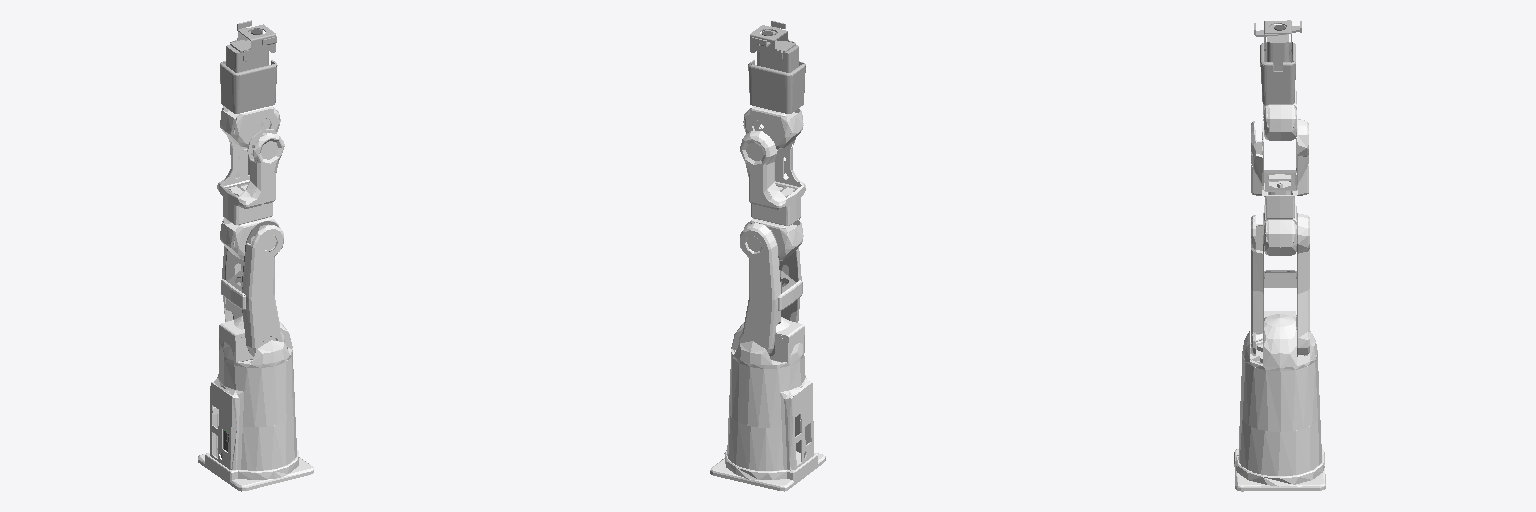
The robot description file, URDF, robot "ve026a":
<?xml version="1.0" encoding="UTF-8"?>
<robot name="ve026a">
	<gazebo>
		<plugin name="gazebo_ros_control" filename="libgazebo_ros_control.so">
			<robotNamespace>/ve026a</robotNamespace>
		</plugin>
	</gazebo>
	<link name="world"/>
	<joint name="joint_w" type="fixed">
		<parent link="world"/>
		<child link="base_link"/>
	</joint>
	<link name="base_link">
		<visual>
			<origin rpy="0 0 0" xyz="0 0 0"/>
			<geometry>
				<mesh filename="package://ve026a_description/meshes/base_link.dae" scale="1 1 1"/>
			</geometry>
		</visual>
		<collision>
			<origin rpy="0 0 0" xyz="0 0 0"/>
			<geometry>
				<mesh filename="package://ve026a_description/meshes/base_link.dae" scale="1 1 1"/>
			</geometry>
		</collision>
		<inertial>
			<mass value="1"/>
			<origin rpy="0.000000 0.000000 0.000000" xyz="0.000000 0.000000 0.000000"/>
			<inertia ixx="1" ixy="0" ixz="0" iyy="1" iyz="0" izz="1"/>
		</inertial>
	</link>
	<link name="J1">
		<visual>
			<origin rpy="0 0 0" xyz="0 0 0"/>
			<geometry>
				<mesh filename="package://ve026a_description/meshes/J1.dae" scale="1 1 1"/>
			</geometry>
		</visual>
		<collision>
			<origin rpy="0 0 0" xyz="0 0 0"/>
			<geometry>
				<mesh filename="package://ve026a_description/meshes/J1.dae" scale="1 1 1"/>
			</geometry>
		</collision>
		<inertial>
			<mass value="1"/>
			<origin rpy="0.000000 0.000000 0.000000" xyz="0.000000 0.000000 0.000000"/>
			<inertia ixx="1" ixy="0" ixz="0" iyy="1" iyz="0" izz="1"/>
		</inertial>
	</link>
	<joint name="joint_1" type="revolute">
		<parent link="base_link"/>
		<child link="J1"/>
		<origin rpy="0.000000 0.000000 0.000000" xyz="0.000000 0.000000 0.000000"/>
		<axis xyz="-0.000000 -0.000000 1.000000"/>
		<limit effort="1" lower="-1.396263" upper="1.832596" velocity="1"/>
		<dynamics damping="0" friction="0"/>
	</joint>
	<transmission name="trans_1">
		<type>transmission_interface/SimpleTransmission</type>
		<joint name="joint_1">
			<hardwareInterface>PositionJointInterface</hardwareInterface>
		</joint>
		<actuator name="motor_1">
			<hardwareInterface>PositionJointInterface</hardwareInterface>
			<mechanicalReduction>1</mechanicalReduction>
		</actuator>
	</transmission>
	<link name="J2">
		<visual>
			<origin rpy="0 0 0" xyz="0 0 0"/>
			<geometry>
				<mesh filename="package://ve026a_description/meshes/J2.dae" scale="1 1 1"/>
			</geometry>
		</visual>
		<collision>
			<origin rpy="0 0 0" xyz="0 0 0"/>
			<geometry>
				<mesh filename="package://ve026a_description/meshes/J2.dae" scale="1 1 1"/>
			</geometry>
		</collision>
		<inertial>
			<mass value="1"/>
			<origin rpy="0.000000 0.000000 0.000000" xyz="0.000000 0.000000 0.000000"/>
			<inertia ixx="1" ixy="0" ixz="0" iyy="1" iyz="0" izz="1"/>
		</inertial>
	</link>
	<joint name="joint_2" type="revolute">
		<parent link="J1"/>
		<child link="J2"/>
		<origin rpy="0.000000 0.000000 0.000000" xyz="0.000000 0.000000 0.130000"/>
		<axis xyz="-0.000000 1.000000 -0.000000"/>
		<limit effort="1" lower="-0.6108652" upper="1.570796" velocity="1"/>
		<dynamics damping="0" friction="0"/>
	</joint>
	<transmission name="trans_2">
		<type>transmission_interface/SimpleTransmission</type>
		<joint name="joint_2">
			<hardwareInterface>PositionJointInterface</hardwareInterface>
		</joint>
		<actuator name="motor_2">
			<hardwareInterface>PositionJointInterface</hardwareInterface>
			<mechanicalReduction>1</mechanicalReduction>
		</actuator>
	</transmission>
	<link name="J3">
		<visual>
			<origin rpy="0 0 0" xyz="0 0 0"/>
			<geometry>
				<mesh filename="package://ve026a_description/meshes/J3.dae" scale="1 1 1"/>
			</geometry>
		</visual>
		<collision>
			<origin rpy="0 0 0" xyz="0 0 0"/>
			<geometry>
				<mesh filename="package://ve026a_description/meshes/J3.dae" scale="1 1 1"/>
			</geometry>
		</collision>
		<inertial>
			<mass value="1"/>
			<origin rpy="0.000000 0.000000 0.000000" xyz="0.000000 0.000000 0.000000"/>
			<inertia ixx="1" ixy="0" ixz="0" iyy="1" iyz="0" izz="1"/>
		</inertial>
	</link>
	<joint name="joint_3" type="revolute">
		<parent link="J2"/>
		<child link="J3"/>
		<origin rpy="0.000000 0.000000 0.000000" xyz="0.000000 0.000000 0.100000"/>
                <axis xyz="-0.000000 1.000000 -0.000000"/>
		<limit effort="1" lower="-1.308997" upper="2.356194" velocity="1"/>
		<dynamics damping="0" friction="0"/>
	</joint>
	<transmission name="trans_3">
		<type>transmission_interface/SimpleTransmission</type>
		<joint name="joint_3">
			<hardwareInterface>PositionJointInterface</hardwareInterface>
		</joint>
		<actuator name="motor_3">
			<hardwareInterface>PositionJointInterface</hardwareInterface>
			<mechanicalReduction>1</mechanicalReduction>
		</actuator>
	</transmission>
	<link name="J4">
		<visual>
			<origin rpy="0 0 0" xyz="0 0 -0.25"/>
			<geometry>
				<mesh filename="package://ve026a_description/meshes/J4.dae" scale="1 1 1"/>
			</geometry>
		</visual>
		<collision>
			<origin rpy="0 0 0" xyz="0 0 -0.25"/>
			<geometry>
				<mesh filename="package://ve026a_description/meshes/J4.dae" scale="1 1 1"/>
			</geometry>
		</collision>
		<inertial>
			<mass value="1"/>
			<origin rpy="0.000000 0.000000 0.000000" xyz="0.000000 0.000000 0.000000"/>
			<inertia ixx="1" ixy="0" ixz="0" iyy="1" iyz="0" izz="1"/>
		</inertial>
	</link>
	<joint name="joint_4" type="revolute">
		<parent link="J3"/>
		<child link="J4"/>
		<origin rpy="0.000000 0.000000 0.000000" xyz="0.000000 0.000000 0.0210000"/>
		<axis xyz="-0.000000 -0.000000 1.000000"/>
		<limit effort="1" lower="-2.443461" upper="2.443461" velocity="1"/>
		<dynamics damping="0" friction="0"/>
	</joint>
	<transmission name="trans_4">
		<type>transmission_interface/SimpleTransmission</type>
		<joint name="joint_4">
			<hardwareInterface>PositionJointInterface</hardwareInterface>
		</joint>
		<actuator name="motor_4">
			<hardwareInterface>PositionJointInterface</hardwareInterface>
			<mechanicalReduction>1</mechanicalReduction>
		</actuator>
	</transmission>
	<link name="J5">
		<visual>
			<origin rpy="0 0 0" xyz="0 0 0"/>
			<geometry>
				<mesh filename="package://ve026a_description/meshes/J5.dae" scale="1 1 1"/>
			</geometry>
		</visual>
		<collision>
			<origin rpy="0 0 0" xyz="0 0 0"/>
			<geometry>
				<mesh filename="package://ve026a_description/meshes/J5.dae" scale="1 1 1"/>
			</geometry>
		</collision>
		<inertial>
			<mass value="1"/>
			<origin rpy="0.000000 0.000000 0.000000" xyz="0.000000 0.000000 0.000000"/>
			<inertia ixx="1" ixy="0" ixz="0" iyy="1" iyz="0" izz="1"/>
		</inertial>
	</link>
	<joint name="joint_5" type="revolute">
		<parent link="J4"/>
		<child link="J5"/>
		<origin rpy="0.000000 0.000000 0.000000" xyz="0.000000 0.000000 0.090000"/>
		<axis xyz="-0.000000 1.000000 -0.000000"/>
		<limit effort="1" lower="-1.570796" upper="1.832596" velocity="1"/>
		<dynamics damping="0" friction="0"/>
	</joint>
	<transmission name="trans_5">
		<type>transmission_interface/SimpleTransmission</type>
		<joint name="joint_5">
			<hardwareInterface>PositionJointInterface</hardwareInterface>
		</joint>
		<actuator name="motor_5">
			<hardwareInterface>PositionJointInterface</hardwareInterface>
			<mechanicalReduction>1</mechanicalReduction>
		</actuator>
	</transmission>
	<link name="J6">
		<visual>
			<origin rpy="0 0 0" xyz="-0.000283 -0.001865 -0.338" />
                        <geometry>
                          <!--J6.dae could not load properly, so use l6.stl-->
                          <mesh filename="package://ve026a_description/meshes/l6.stl" scale="1 1 1"/>
                        </geometry>
                        <material name="J6">
                          <color rgba="0.8 0.8 0.8 1"/>
                        </material>
		</visual>
		<collision>
			<origin rpy="0 0 0" xyz="-0.000283 -0.001865 -0.338"/>
			<geometry>
                          <mesh filename="package://ve026a_description/meshes/l6.stl" scale="1 1 1"/>
			</geometry>
		</collision>
		<inertial>
			<mass value="1"/>
			<origin rpy="0.000000 0.000000 0.000000" xyz="0.000000 0.000000 0.000000"/>
			<inertia ixx="1" ixy="0" ixz="0" iyy="1" iyz="0" izz="1"/>
		</inertial>
	</link>
	<joint name="joint_6" type="revolute">
		<parent link="J5"/>
		<child link="J6"/>
		<!--origin rpy="0.000000 0.000000 0.000000" xyz="0.000000 0.000000 -0.320000"/--> <!-- wincaps3's bag? -->
		<origin rpy="0.000000 0.000000 0.000000" xyz="0.000000 0.000000 0.019"/> <!-- End effector tip position -->
		<!--axis xyz="0.000000 0.000000 0.000000"/-->
		<axis xyz="0.000000 0.000000 1.000000"/>
		<limit effort="1" lower="-2.443461" upper="2.443461" velocity="1"/>
		<dynamics damping="0" friction="0"/>
	</joint>
	<transmission name="trans_6">
		<type>transmission_interface/SimpleTransmission</type>
		<joint name="joint_6">
			<hardwareInterface>PositionJointInterface</hardwareInterface>
		</joint>
		<actuator name="motor_6">
			<hardwareInterface>PositionJointInterface</hardwareInterface>
			<mechanicalReduction>1</mechanicalReduction>
		</actuator>
        </transmission>

        <link name="link_effector"/>
        <joint name="joint_effector" type="fixed">
             <parent link="J6"/>
             <child link="link_effector"/>
             <origin rpy="0.00 0.00 0.00" xyz="0.00 0.00 0.068"/>
             <axis xyz="0.0 0.0 0.0"/>
        </joint>

        
        <link name="J7">
		<visual>
			<origin rpy="0 0 0" xyz="0 0 0" />
			<geometry>
                          <cylinder length="0.001" radius="0.005"/>
                        </geometry>
                        <material name="J7">
                          <color rgba="0.5 0.5 0.5 1"/>
                        </material>
		</visual>
		<collision>
			<origin rpy="0 0 0" xyz="0 0 0"/>
			<geometry>
                          <cylinder length="0.001" radius="0.005"/>
			</geometry>
		</collision>
		<inertial>
			<mass value="0.1"/>
			<origin rpy="0.000000 0.000000 0.000000" xyz="0.000000 0.000000 0.000000"/>
			<inertia ixx="1" ixy="0" ixz="0" iyy="1" iyz="0" izz="1"/>
		</inertial>
        </link>
	<joint name="joint_7" type="revolute">
		<parent link="link_effector"/>
		<child link="J7"/>
		<!--origin rpy="0.000000 0.000000 0.000000" xyz="0.000000 0.000000 -0.320000"/--> <!-- wincaps3's bag? -->
		<origin rpy="0.000000 0.000000 0.000000" xyz="0.000000 0.000000 0.000"/>
		<axis xyz="0.000000 0.000000 1.000000"/>
		<limit effort="1" lower="-0.63633" upper="0.43633" velocity="3"/>
		<dynamics damping="0" friction="0"/>
	</joint>

	<!--joint name="joint_7" type="revolute">
		<parent link="J6"/>
		<child link="J7"/>

		<origin rpy="0.000000 0.000000 0.000000" xyz="0.000000 0.000000 0.068"/> 			<axis xyz="0.000000 0.000000 1.000000"/>
		<limit effort="1" lower="-0.63633" upper="0.43633" velocity="3"/>
		<dynamics damping="0" friction="0"/>
	</joint-->
	<transmission name="trans_7">
		<type>transmission_interface/SimpleTransmission</type>
		<joint name="joint_7">
			<hardwareInterface>PositionJointInterface</hardwareInterface>
		</joint>
		<actuator name="motor_7">
			<hardwareInterface>PositionJointInterface</hardwareInterface>
			<mechanicalReduction>1</mechanicalReduction>
		</actuator>
        </transmission>

</robot>

--- What the picture shows (computed from the rendered views, not written in the file) ---
3 views of the same robot in one strip: view 1: azimuth 30°, elevation 25°; view 2: azimuth 150°, elevation 25°; view 3: azimuth 270°, elevation 25° (orthographic).
Model ve026a with 10 links and 9 joints (7 revolute, 2 fixed), rooted at world, posed all joints at 0.
Visible links, largest first — view 1: base_link, J2, J4, J6, J1, J5, J3; view 2: base_link, J2, J4, J6, J1, J5, J3; view 3: base_link, J2, J4, J6, J1, J3, J5.
Boxes of the visible links, x1,y1,x2,y2 form: base_link: [198, 347, 313, 491]; J2: [221, 221, 284, 356]; J4: [217, 129, 284, 224]; J6: [220, 20, 277, 113]; J1: [219, 316, 292, 367]; J5: [220, 106, 280, 147]; J3: [220, 217, 279, 259]; base_link: [710, 350, 825, 491]; J2: [739, 222, 802, 356]; J4: [740, 131, 805, 225]; J6: [748, 21, 805, 113]; J1: [731, 317, 804, 368]; J5: [743, 106, 803, 148]; J3: [744, 218, 803, 260]; base_link: [1234, 340, 1325, 491]; J2: [1251, 213, 1309, 356]; J4: [1251, 119, 1308, 218]; J6: [1254, 20, 1301, 104]; J1: [1242, 311, 1317, 371]; J3: [1264, 204, 1296, 255]; J5: [1263, 89, 1296, 140].
Bounding box of the posed robot: 0.0803 × 0.0803 × 0.4305 m (x, y, z).
Meshes: 7 distinct files referenced, 7 mesh visuals loaded (1 binary STL, 6 Collada DAE).
